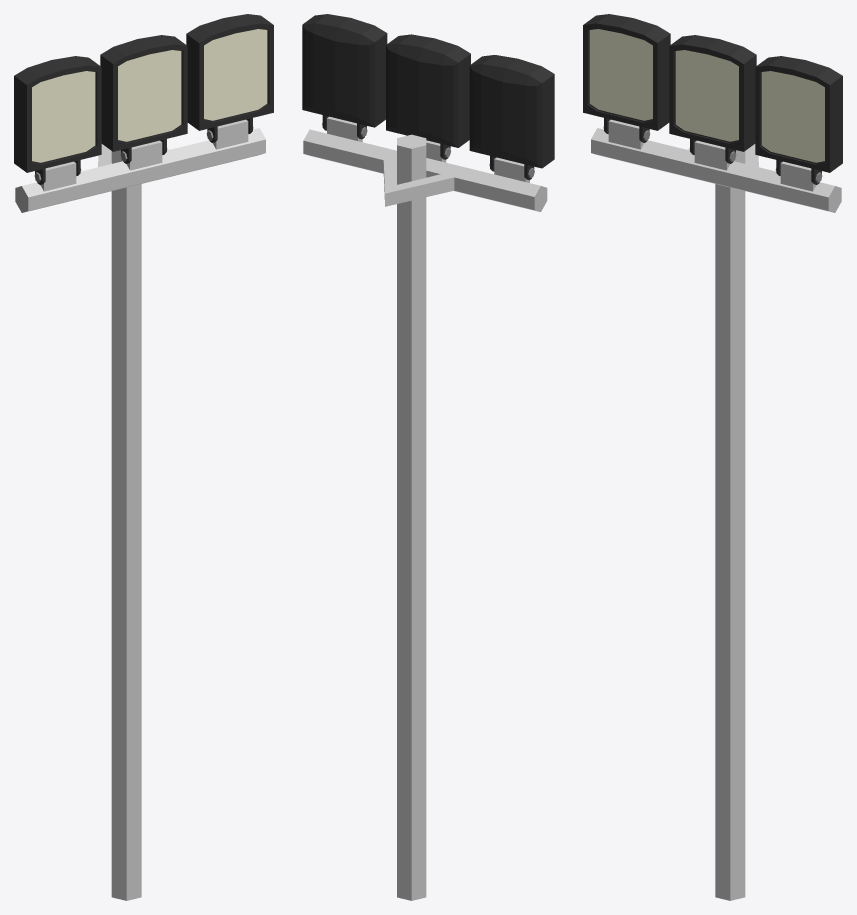
The model's file is Ext_StreetLamp02.fbx.
3 renders of one model, left to right at view 1: azimuth 30°, elevation 25°; view 2: azimuth 150°, elevation 25°; view 3: azimuth 330°, elevation 25°, orthographic. The views are drawn at different scales.
Visible parts, largest first — view 1: Ext_StreetLamp02; view 2: Ext_StreetLamp02; view 3: Ext_StreetLamp02.
Part boxes in pixels (bbox=[...]): Ext_StreetLamp02: bbox=[14, 14, 273, 900]; Ext_StreetLamp02: bbox=[302, 14, 554, 900]; Ext_StreetLamp02: bbox=[583, 14, 842, 900].
Size of what is drawn, in the model's own units: 209 by 74.95 by 698.
